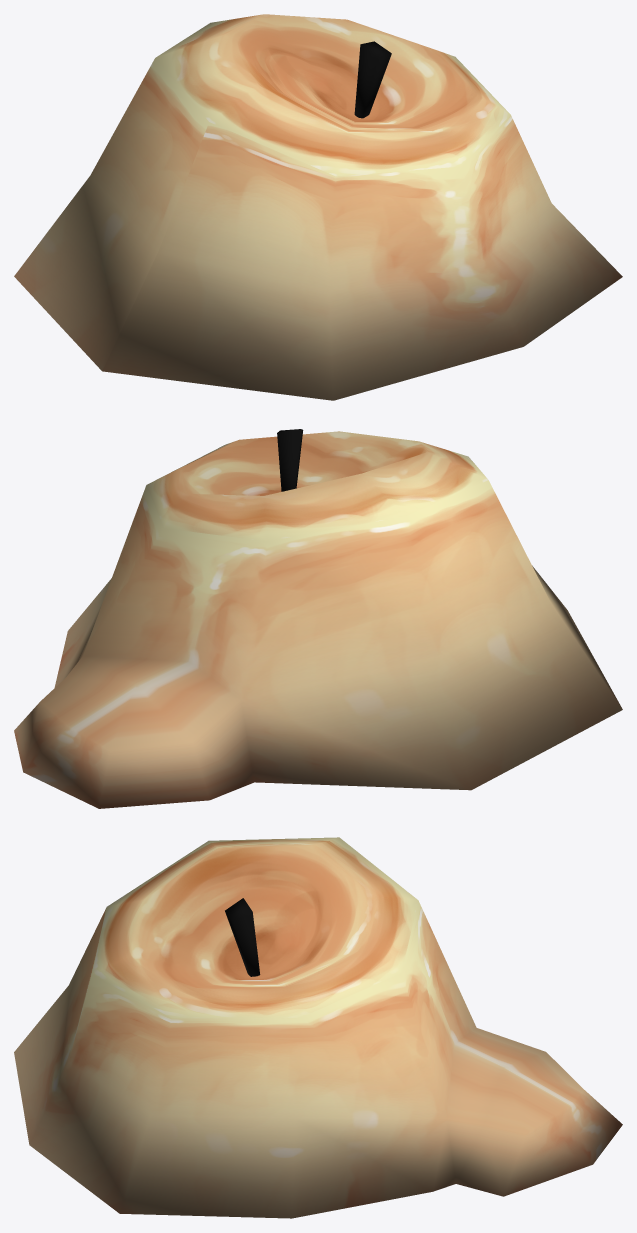
File: SM_PROP_candle_dungeon_12.fbx
3 renders of one model, top to bottom at view 1: azimuth 30°, elevation 25°; view 2: azimuth 150°, elevation 25°; view 3: azimuth 270°, elevation 25°, orthographic. The views are drawn at different scales.
Visible parts, largest first — view 1: SM_PROP_candle_dungeon_12; view 2: SM_PROP_candle_dungeon_12; view 3: SM_PROP_candle_dungeon_12.
Part boxes in pixels (x1,y1,x2,y2): SM_PROP_candle_dungeon_12: [14, 14, 622, 400]; SM_PROP_candle_dungeon_12: [14, 429, 622, 808]; SM_PROP_candle_dungeon_12: [14, 837, 622, 1218].
Size of the model in its own units: 17.46 by 8.23 by 19.34.
